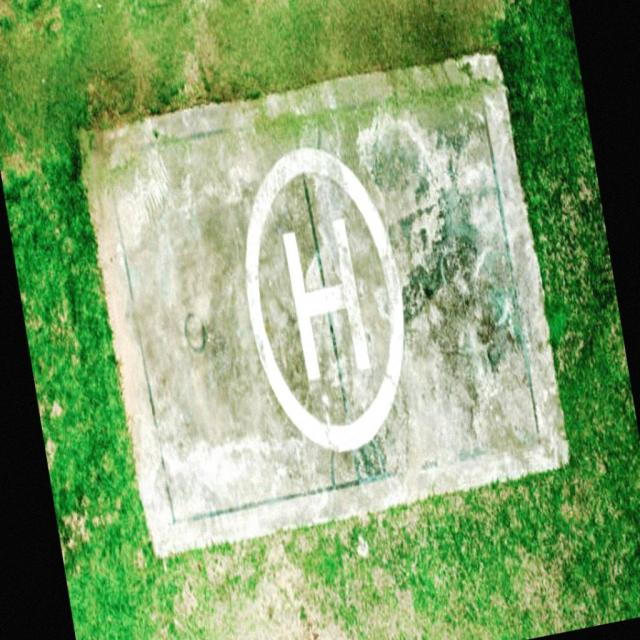helipad: (236, 142, 408, 455)
